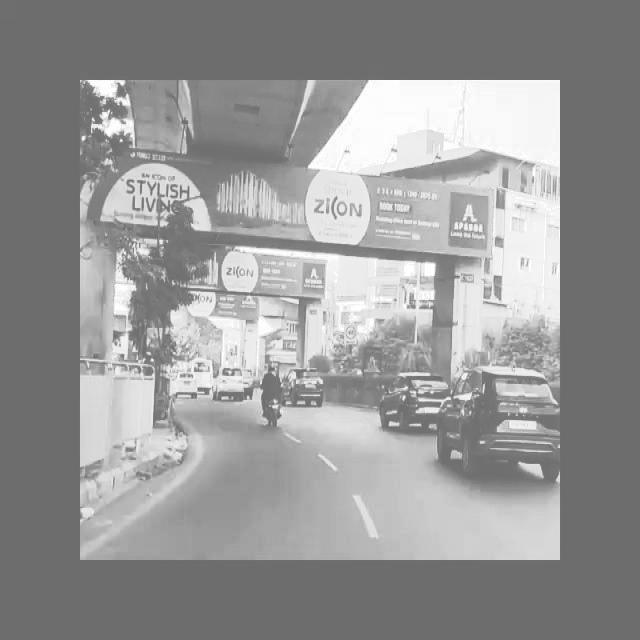Car: (446, 364, 563, 488), (372, 368, 445, 432), (281, 361, 329, 407), (212, 358, 252, 406), (172, 359, 203, 409)
